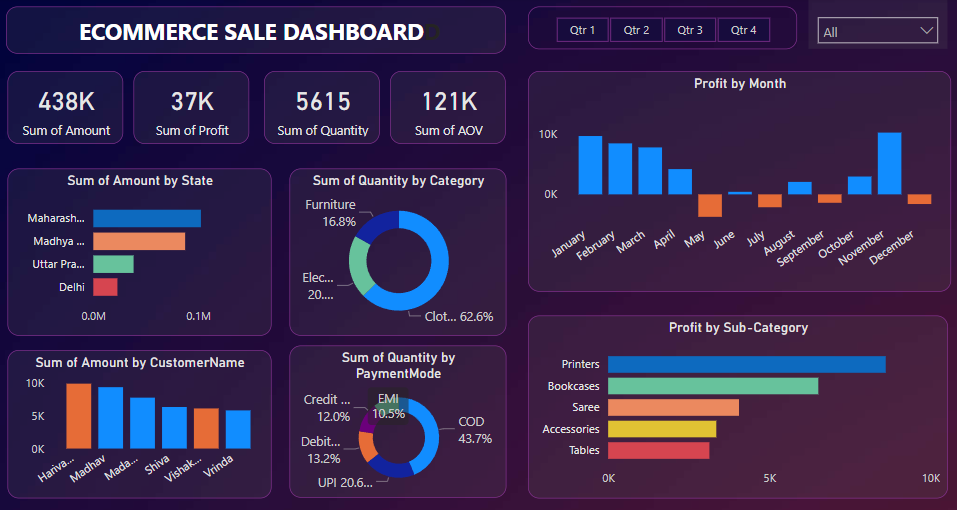

Layout of this report page (visuals, bound fields, positions):
{"tool":"powerbi","page":{"name":"Page 1","canvas":[1280,720],"ordinal":0},"visuals":[{"type":"textbox","box":[10,11.2,530,50],"z":0},{"type":"columnChart","title":" Profit by Month","fields":{"Category":["Orders.Order Date.Variation.Date Hierarchy.Month"],"Y":["Details.Profit"]},"box":[562.5,80,448.8,233.8],"z":1000},{"type":"barChart","title":" Profit by Sub-Category","fields":{"Category":["Details.Sub-Category"],"Y":["Details.Profit"]},"box":[562.5,338.8,445,193.8],"z":2000},{"type":"donutChart","fields":{"Category":["Details.Category"],"Y":["Details.Quantity"]},"box":[310,182.5,230,177.5],"z":3000},{"type":"pieChart","fields":{"Y":["Details.Quantity"],"Category":["Details.PaymentMode"]},"box":[310,371.2,230,161.2],"z":4000},{"type":"card","fields":{"Values":["Details.Amount"]},"box":[11.2,80,122.5,77.5],"z":5000},{"type":"card","fields":{"Values":["Details.Quantity"]},"box":[282.5,80,122.5,77.5],"z":6000},{"type":"card","fields":{"Values":["Details.Profit"]},"box":[145,80,122.5,77.5],"z":7000},{"type":"card","fields":{"Values":["Details.AOV"]},"box":[417.5,80,122.5,77.5],"z":8000},{"type":"barChart","title":"Sum of Amount by State","fields":{"Y":["Details.Amount"],"Category":["Orders.State"]},"box":[11.2,182.5,280,177.5],"z":9000},{"type":"columnChart","fields":{"Category":["Orders.CustomerName"],"Y":["Details.Amount"]},"box":[11.2,375,280,157.5],"z":10000},{"type":"slicer","fields":{"Values":["Orders.Order Date.Variation.Date Hierarchy.Quarter"]},"box":[562.5,11.2,285,45],"z":11000},{"type":"slicer","fields":{"Values":["Orders.State"]},"box":[860,0,147.5,56.2],"z":12000}]}

Visuals, with their boxes in screenshot pixels (x1, y1, x2, y2):
textbox: pyautogui.locateOnScreen(0, 0, 358, 25)
" Profit by Month" columnChart: pyautogui.locateOnScreen(374, 39, 688, 202)
" Profit by Sub-Category" barChart: pyautogui.locateOnScreen(374, 220, 685, 355)
donutChart - Details.Category x Details.Quantity: pyautogui.locateOnScreen(197, 110, 358, 234)
pieChart - Details.Quantity x Details.PaymentMode: pyautogui.locateOnScreen(197, 242, 358, 355)
card - Details.Amount: pyautogui.locateOnScreen(0, 39, 74, 93)
card - Details.Quantity: pyautogui.locateOnScreen(178, 39, 263, 93)
card - Details.Profit: pyautogui.locateOnScreen(82, 39, 167, 93)
card - Details.AOV: pyautogui.locateOnScreen(272, 39, 358, 93)
"Sum of Amount by State" barChart: pyautogui.locateOnScreen(0, 110, 184, 234)
columnChart - Orders.CustomerName x Details.Amount: pyautogui.locateOnScreen(0, 245, 184, 355)
slicer - Orders.Order Date.Variation.Date Hierarchy.Quarter: pyautogui.locateOnScreen(374, 0, 573, 22)
slicer - Orders.State: pyautogui.locateOnScreen(582, 0, 685, 22)
